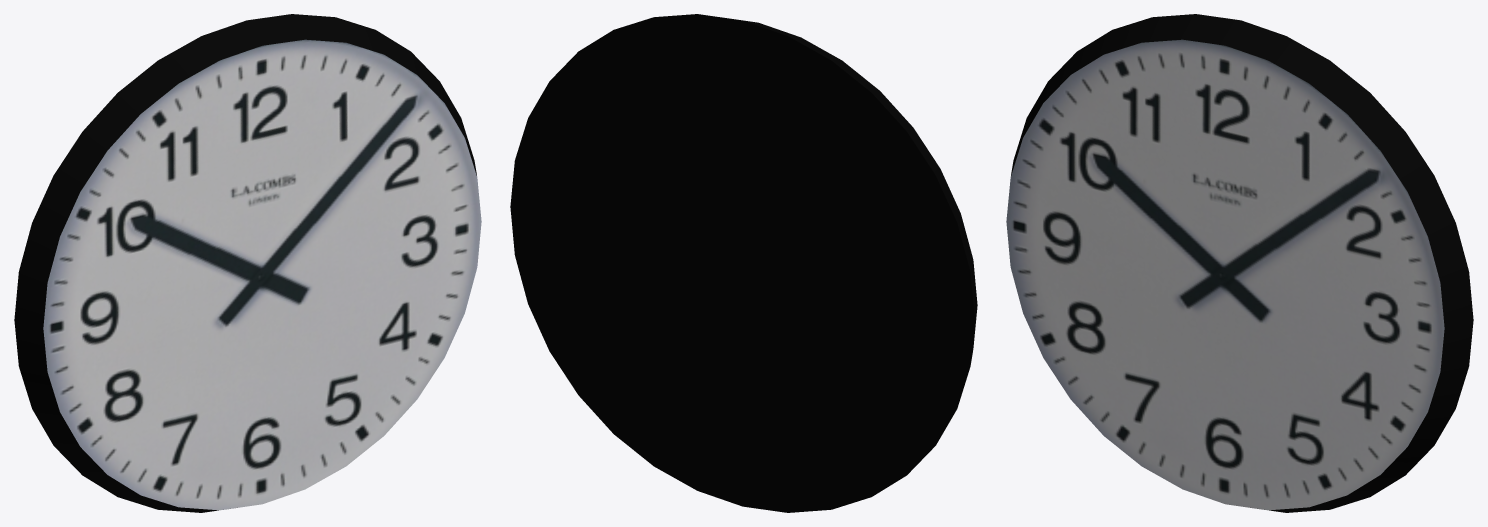
The model's file is Clock.fbx.
The picture shows the model from 3 angles, left to right: view 1: azimuth 30°, elevation 25°; view 2: azimuth 150°, elevation 25°; view 3: azimuth 330°, elevation 25°; orthographic projection.
Parts seen in each view (by area): view 1: Clock; view 2: Clock; view 3: Clock.
Boxes of the visible parts, x1=… form: Clock: x1=14, y1=14, x2=481, y2=512; Clock: x1=510, y1=14, x2=977, y2=512; Clock: x1=1006, y1=14, x2=1473, y2=512.
Size of the model in its own units: 51.34 by 51.34 by 3.2.
1 material, 1 textured.
